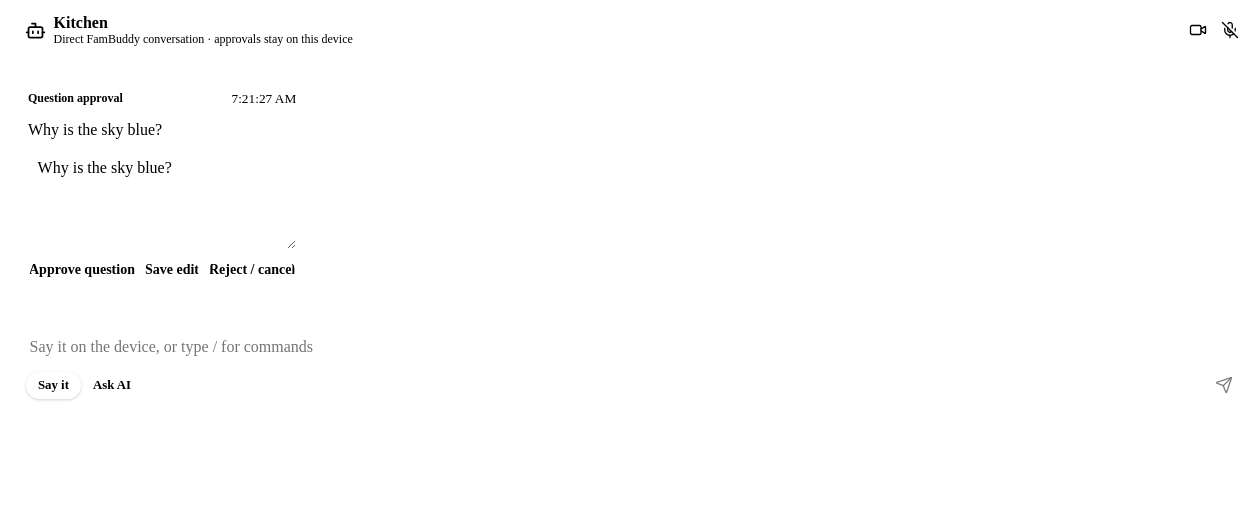
Test: says so when the live camera does not start
Step 1. Click the button named "Open live camera" → [1198, 30], box [1182, 19, 1214, 41]
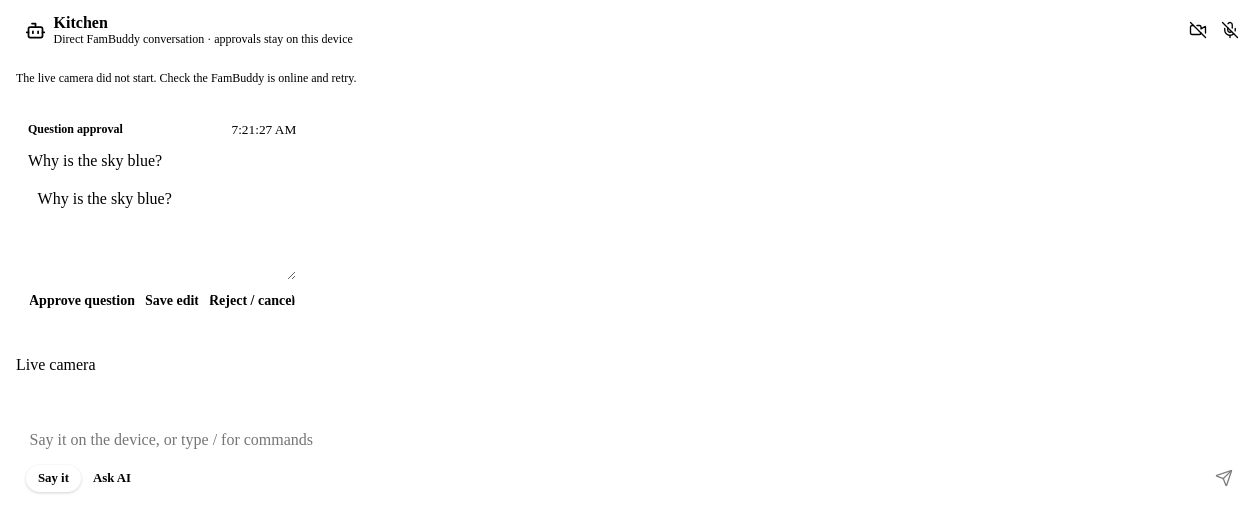
expect the text "The live camera did not start. Check the FamBuddy is online and retry." is shown: met, box [16, 71, 356, 85]
